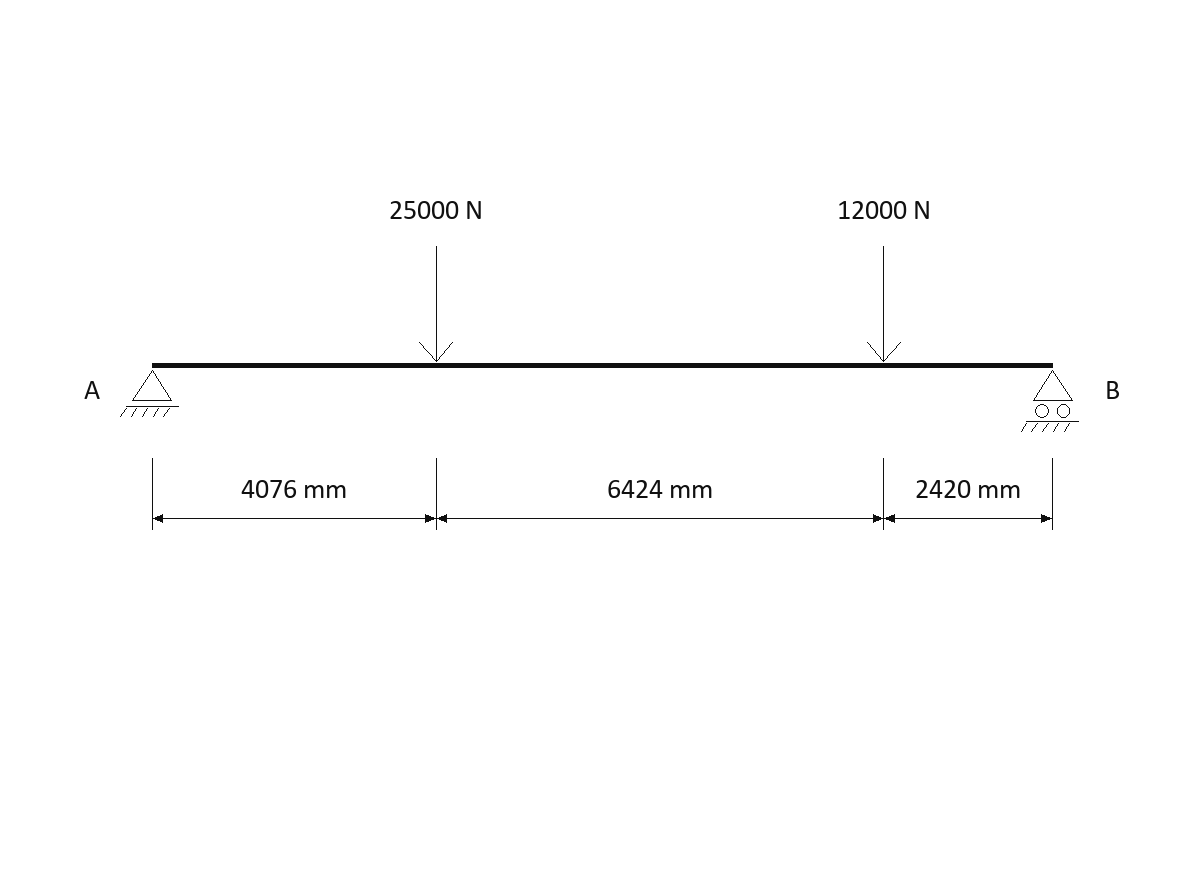pin_support: (120, 370, 179, 417)
point_load: (419, 246, 453, 362), (867, 246, 901, 362)
roller_support: (1021, 370, 1079, 432)
